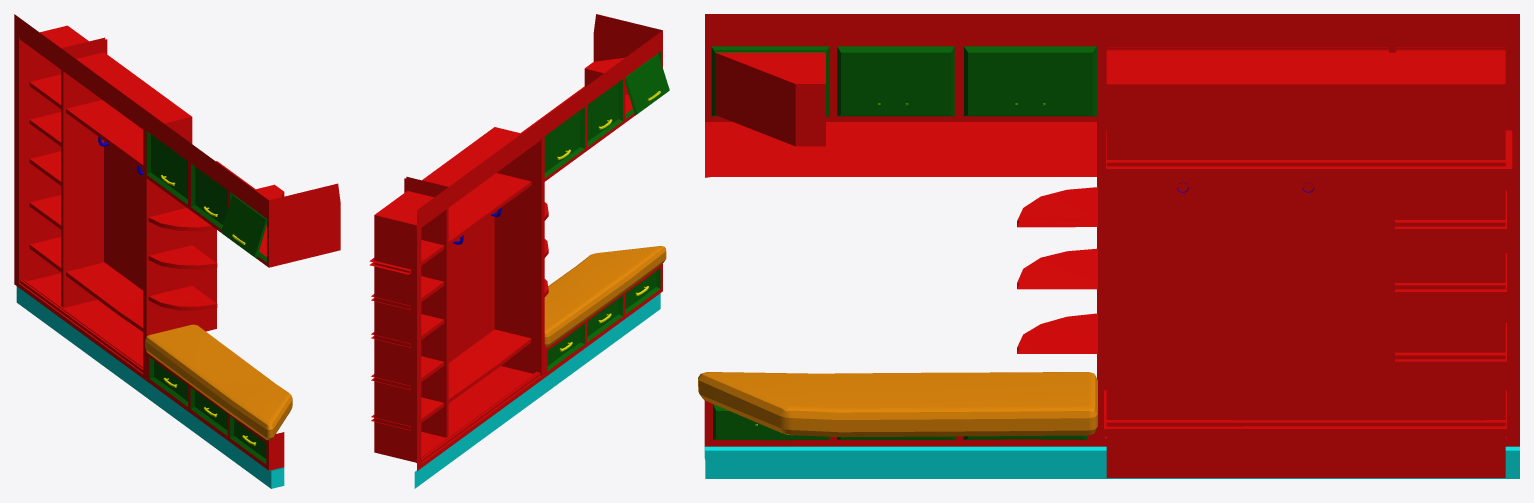
Rendered from Hallway_Closet.fbx.
3 renders of one model, left to right at view 1: azimuth 30°, elevation 25°; view 2: azimuth 150°, elevation 25°; view 3: azimuth 270°, elevation 25°, orthographic. The views are drawn at different scales.
Parts seen in each view (by area): view 1: Hallway_Closet; view 2: Hallway_Closet; view 3: Hallway_Closet.
Part boxes in pixels (left/top/right/bottom): Hallway_Closet: left=14, top=14, right=340, bottom=488; Hallway_Closet: left=369, top=14, right=669, bottom=488; Hallway_Closet: left=698, top=14, right=1519, bottom=478.
Bounding box in the file's own units: 132 × 431 × 693.
